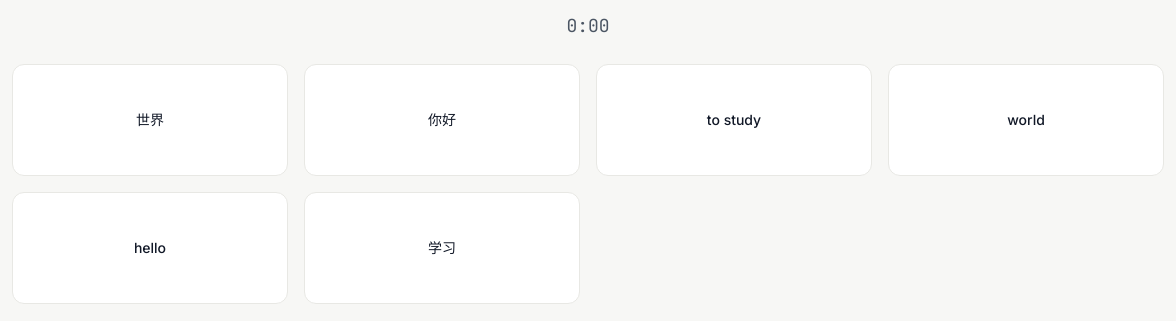
Test case: FlashcardMatch › correct match applies matched styling
This screenshot has width=1176, height=321.
Step 1. Click the button "你好" → click(442, 120), box [304, 64, 580, 176]
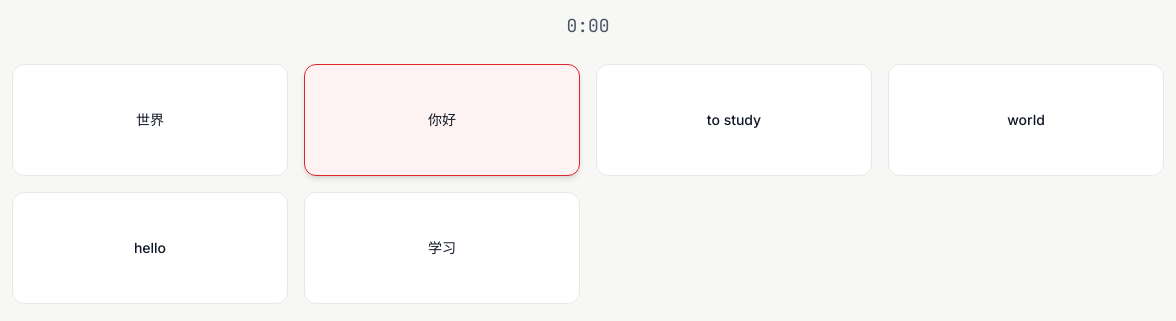
Step 2. Click the button "hello" → click(150, 248), box [12, 192, 288, 304]
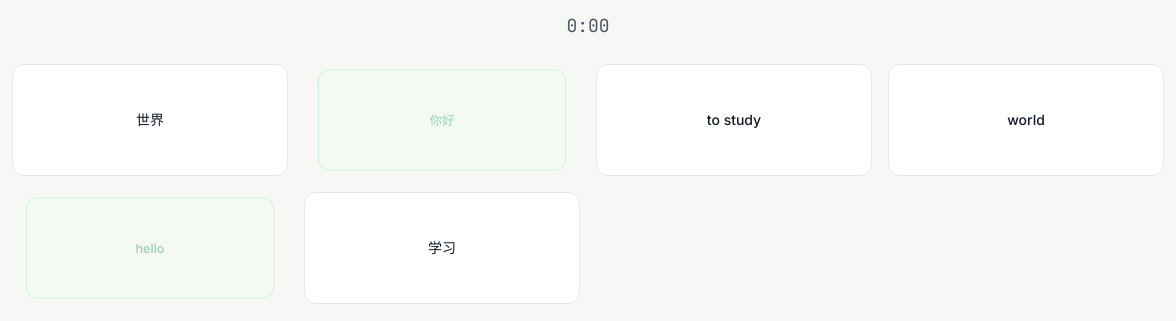
Now the button "你好" is disabled, box [318, 70, 566, 170]
Now the button "hello" is disabled, box [26, 198, 274, 298]
